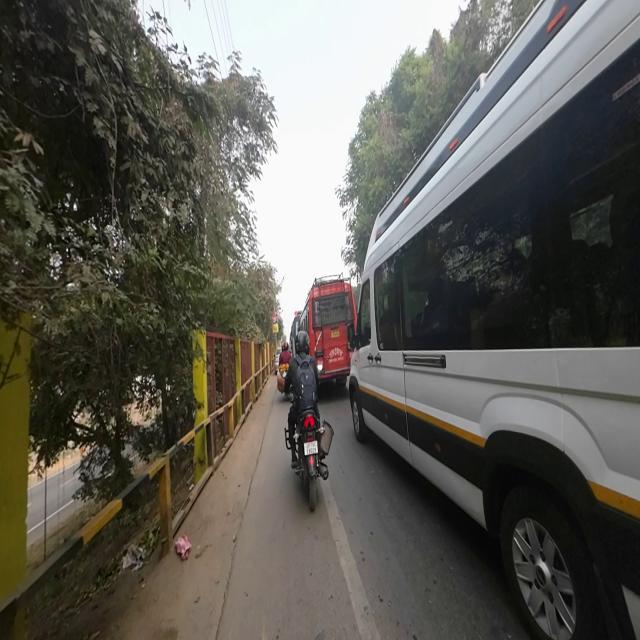Garbage: (122, 545, 152, 576), (173, 532, 196, 564)
